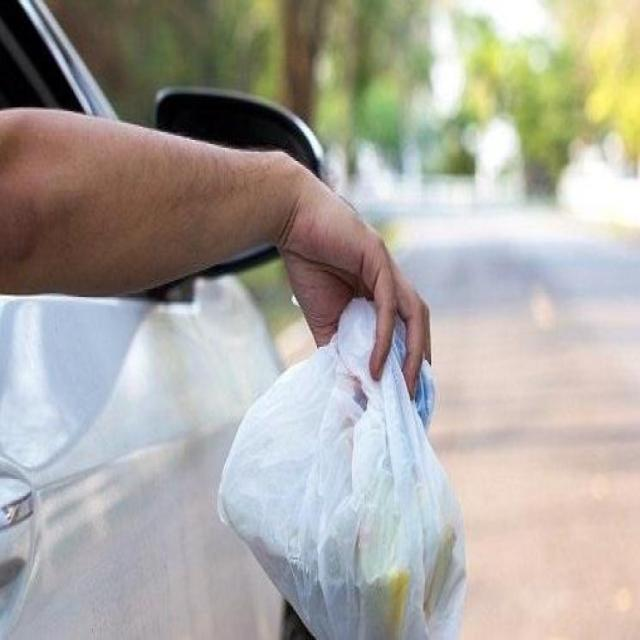sampah-detection: (212, 288, 472, 640)
